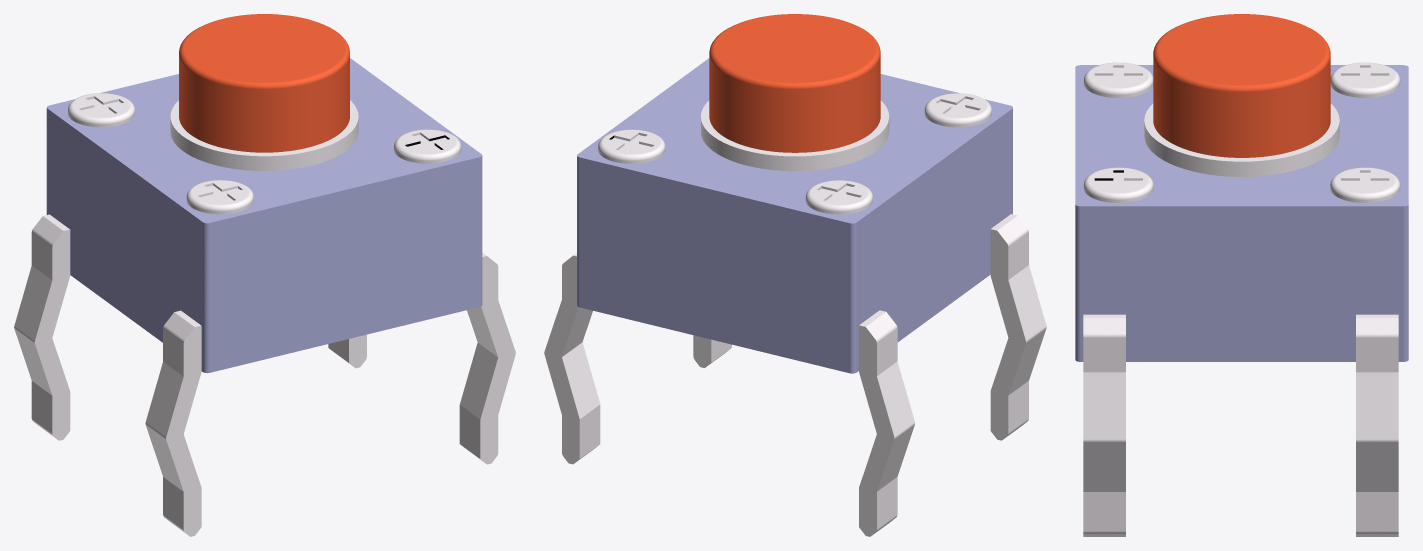
File: button.glb
3 views of the same model, side by side, from view 1: azimuth 30°, elevation 25°; view 2: azimuth 150°, elevation 25°; view 3: azimuth 270°, elevation 25° (orthographic). The views are drawn at different scales.
Visible parts, largest first — view 1: button.142, button.093, button.153, button.014, button.157; view 2: button.142, button.093, button.153, button.014, button.157; view 3: button.142, button.153, button.093, button.014, button.157.
Boxes of the visible parts, x1,y1,x2,y2 form: button.142: (46, 58, 482, 373); button.093: (14, 214, 515, 536); button.153: (179, 14, 349, 152); button.014: (68, 93, 461, 214); button.157: (170, 100, 358, 170); button.142: (577, 58, 1012, 373); button.093: (544, 214, 1046, 536); button.153: (709, 14, 880, 152); button.014: (598, 93, 991, 214); button.157: (701, 100, 889, 171); button.142: (1075, 65, 1408, 361); button.153: (1153, 14, 1330, 157); button.093: (1083, 314, 1398, 536); button.014: (1083, 62, 1400, 202); button.157: (1144, 103, 1339, 176).
Bounding box in the file's own units: 7.84 × 8.48 × 6.24.
